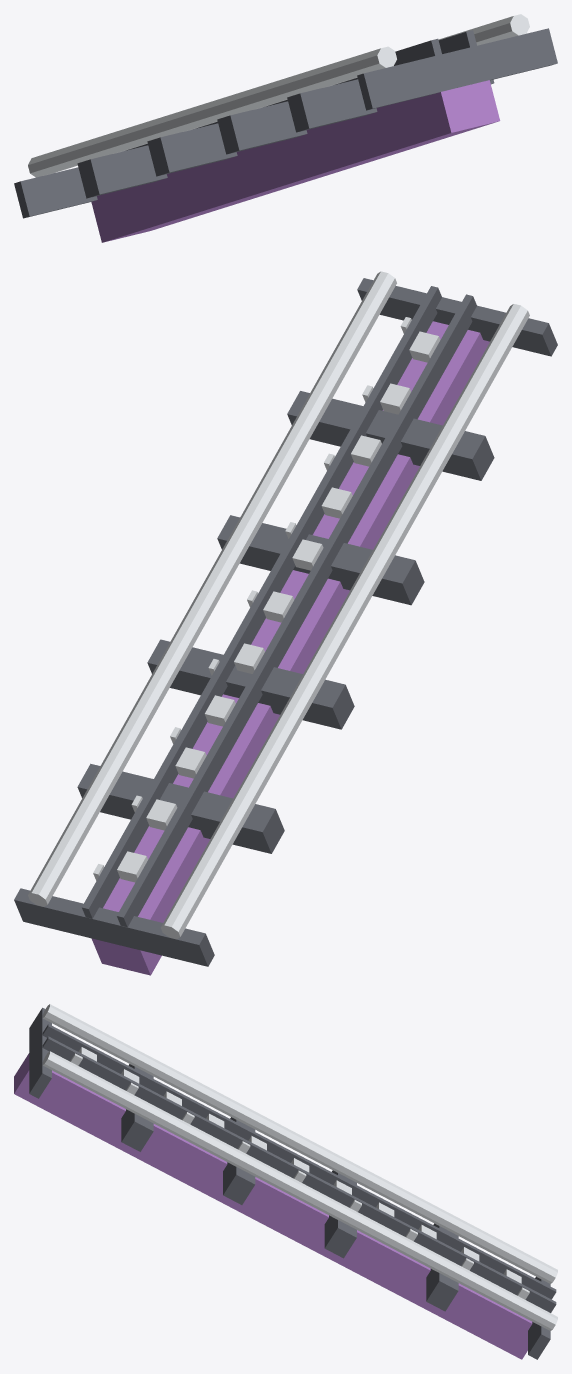
The model's file is theme-park-rides-and-coasters-theme-park-rides-and-coa-f9e2d8f3__28629.glb.
The picture shows the model from 3 angles, top to bottom: view 1: azimuth 30°, elevation 25°; view 2: azimuth 150°, elevation 25°; view 3: azimuth 270°, elevation 25°; orthographic projection. The views are drawn at different scales.
Parts seen in each view (by area): view 1: theme-park-rides-and-coasters-track-lift-hill; view 2: theme-park-rides-and-coasters-track-lift-hill, chain; view 3: theme-park-rides-and-coasters-track-lift-hill, chain.
Boxes of the visible parts, x1,y1,x2,y2 form: theme-park-rides-and-coasters-track-lift-hill: [14, 14, 557, 242]; theme-park-rides-and-coasters-track-lift-hill: [14, 271, 557, 975]; chain: [117, 331, 440, 882]; theme-park-rides-and-coasters-track-lift-hill: [14, 1004, 557, 1359]; chain: [78, 1047, 521, 1283].
Bounding box in the file's own units: 1.06 × 2.43 × 3.71.
